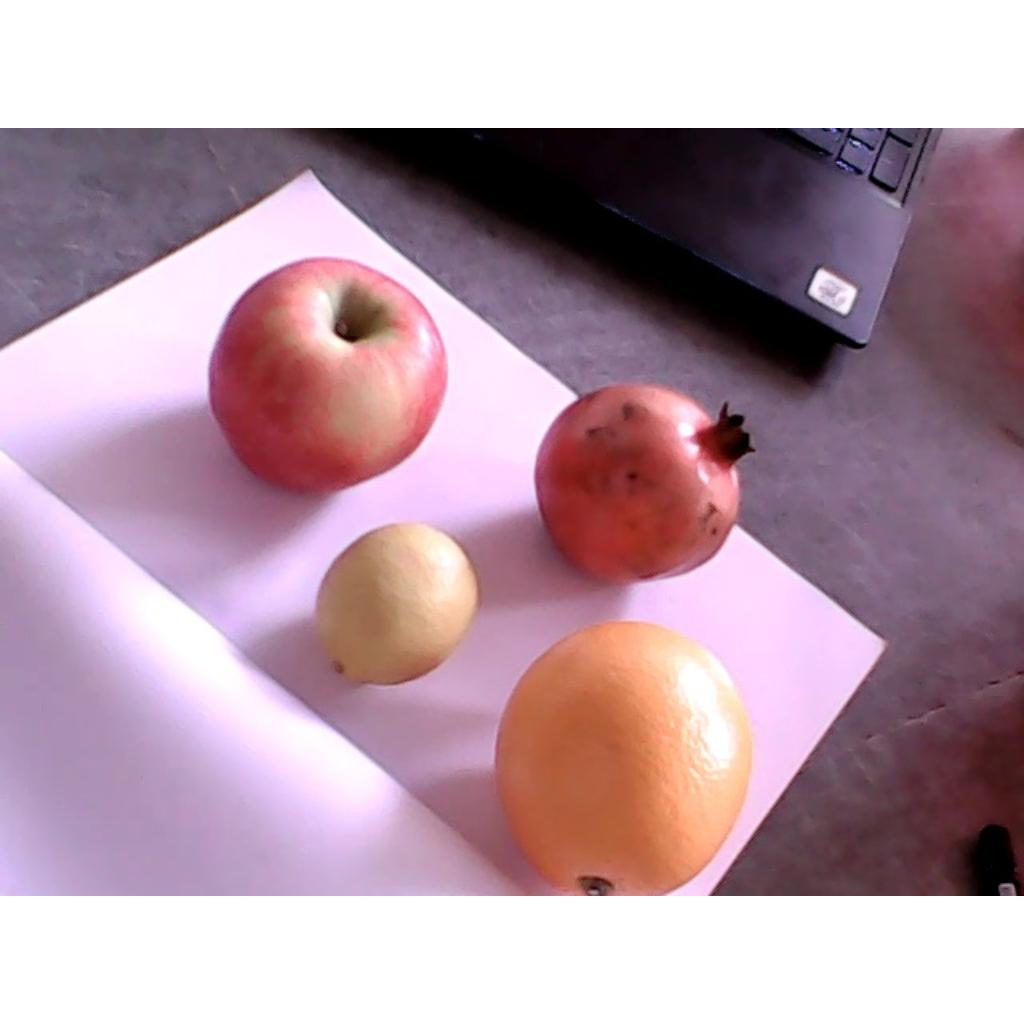apple: (209, 259, 449, 501)
lemon: (314, 524, 480, 685)
orange: (495, 619, 750, 894)
pomegranate: (533, 378, 764, 587)
